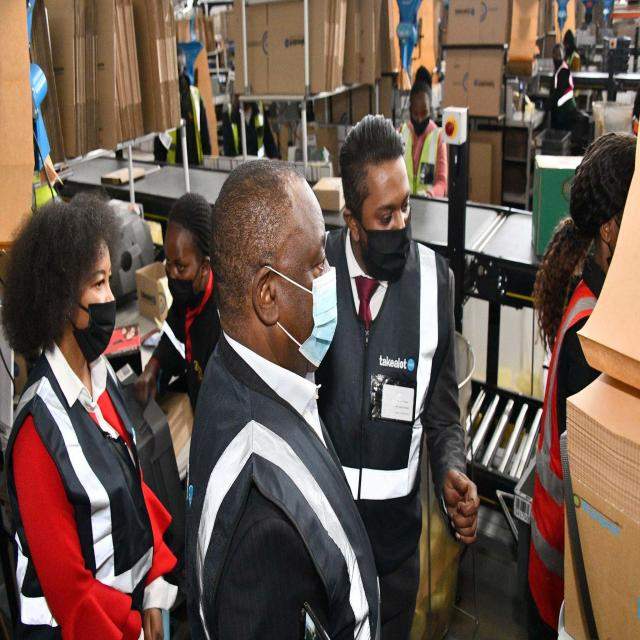Mask: (301, 266, 339, 375), (77, 297, 117, 366), (367, 226, 414, 277), (164, 272, 195, 310)
